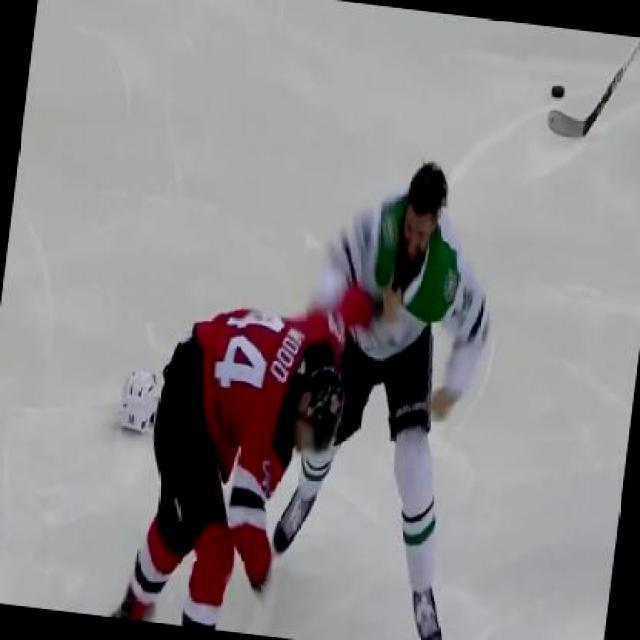fight: (129, 131, 508, 638)
